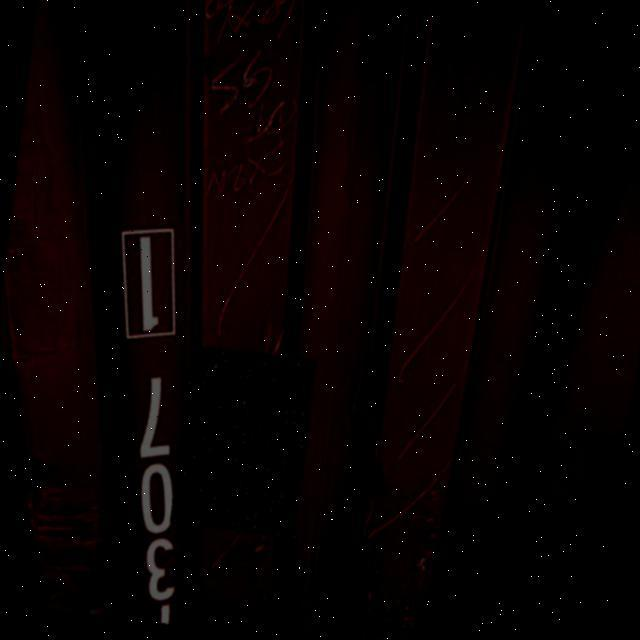Minor-Dent: (169, 345, 316, 538)
